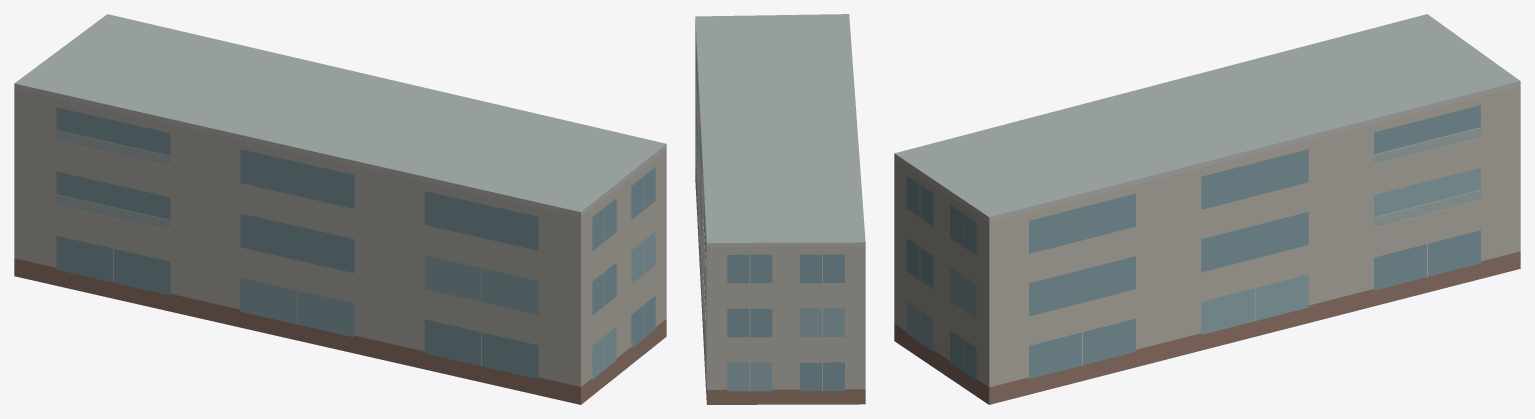
Rendered from survey-upis-32720515.glb.
3 views of the same model, side by side, from view 1: azimuth 30°, elevation 25°; view 2: azimuth 150°, elevation 25°; view 3: azimuth 270°, elevation 25° (orthographic). The views are drawn at different scales.
Parts seen in each view (by area): view 1: survey-upis-32720515.tmp; view 2: survey-upis-32720515.tmp; view 3: survey-upis-32720515.tmp.
Boxes of the visible parts, <box> form: survey-upis-32720515.tmp: <box>14,14,666,404</box>; survey-upis-32720515.tmp: <box>695,14,865,404</box>; survey-upis-32720515.tmp: <box>894,14,1520,404</box>.
Bounding box in the file's own units: 21.25 × 9.15 × 27.68.
